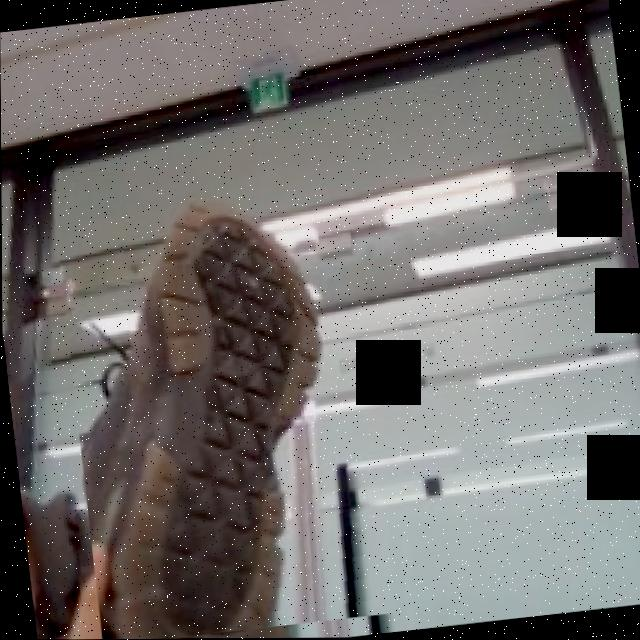shoe: (51, 156, 426, 640)
